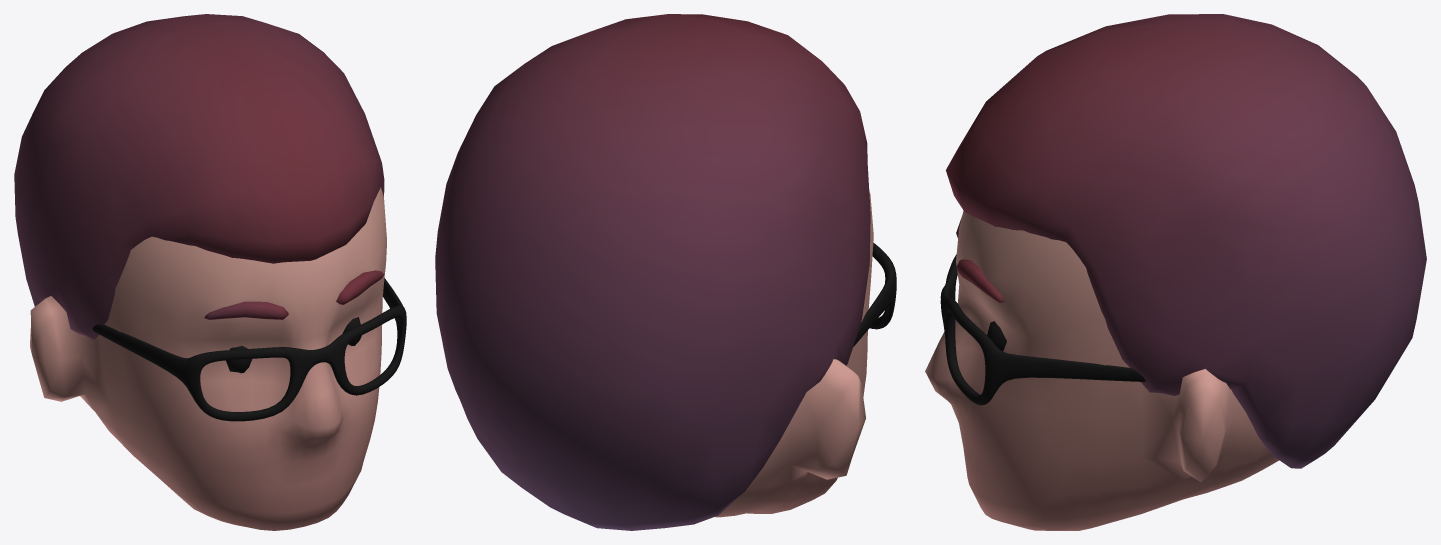
File: head.obj
The picture shows the model from 3 angles, left to right: view 1: azimuth 30°, elevation 25°; view 2: azimuth 150°, elevation 25°; view 3: azimuth 270°, elevation 25°; orthographic projection. The views are drawn at different scales.
Parts seen in each view (by area): view 1: head; view 2: head; view 3: head.
Boxes of the visible parts, x1,y1,x2,y2 form: head: [14, 14, 406, 530]; head: [435, 14, 896, 530]; head: [925, 14, 1426, 530].
Bounding box in the file's own units: 0.2488 × 0.2931 × 0.2853.
2 materials, 2 textured.
